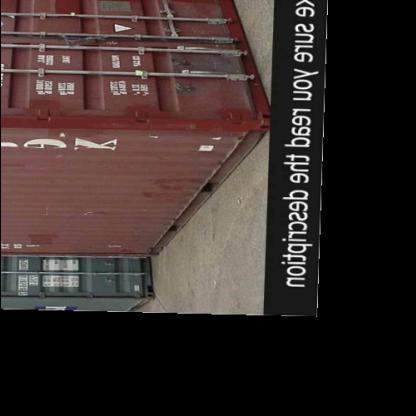Damage: (72, 206, 96, 226), (101, 239, 126, 257), (38, 200, 55, 226), (142, 127, 158, 150)
